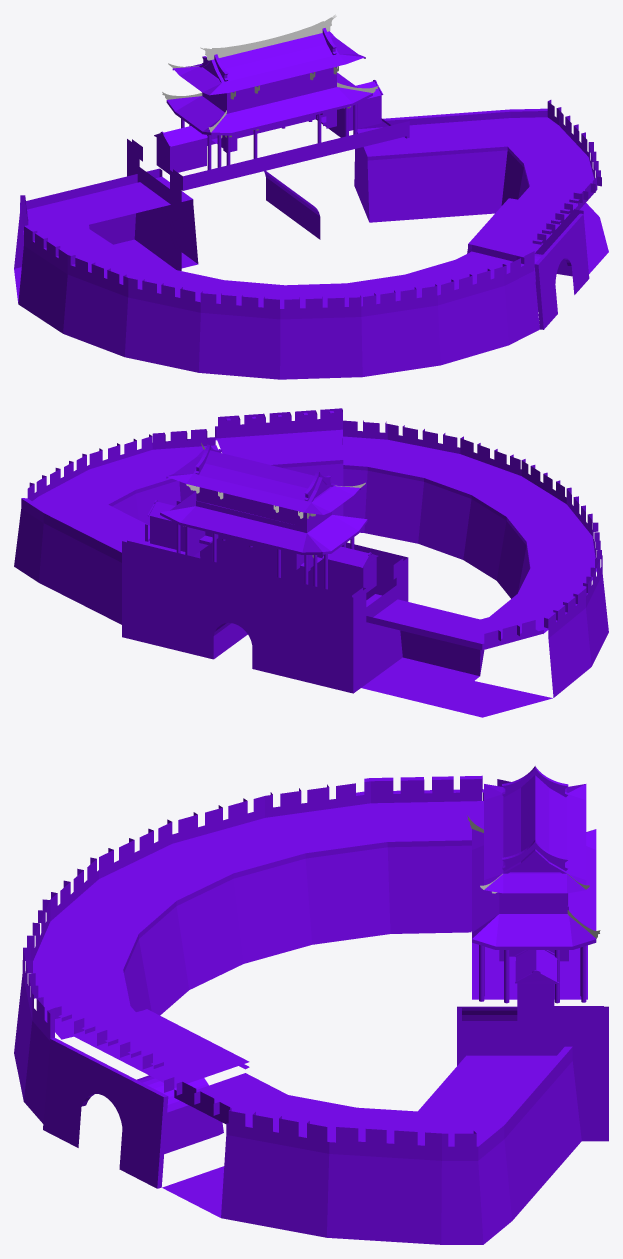
3 views of the same model, one above another, from view 1: azimuth 30°, elevation 25°; view 2: azimuth 150°, elevation 25°; view 3: azimuth 270°, elevation 25° (orthographic). The views are drawn at different scales.
Visible parts, largest first — view 1: skpC180_001, Component#5_001; view 2: skpC180_001; view 3: skpC180_001, Component#12_001.
Part boxes in pixels (x1=…): skpC180_001: x1=14, y1=31, x2=608, y2=379; Component#5_001: x1=201, y1=40, x2=269, y2=60; skpC180_001: x1=14, y1=408, x2=608, y2=717; skpC180_001: x1=14, y1=775, x2=608, y2=1244; Component#12_001: x1=515, y1=958, x2=558, y2=984.
Size of the model in its own units: 1738 by 601 by 1198.
